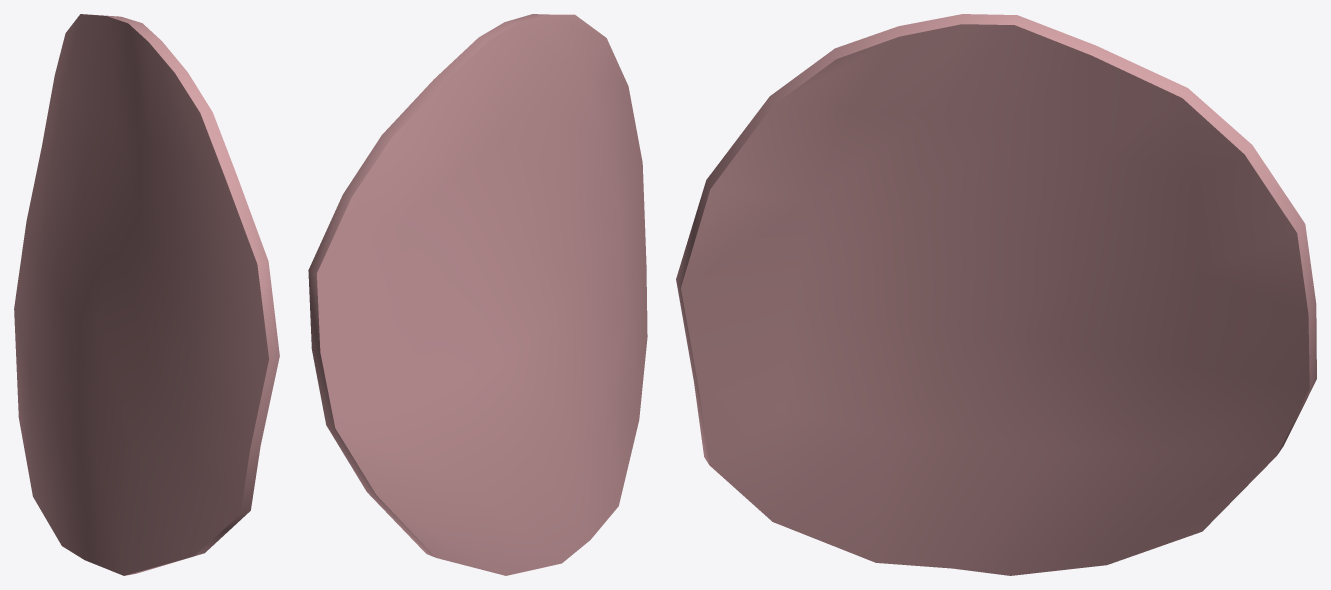
3 views of the same model, side by side, from view 1: azimuth 30°, elevation 25°; view 2: azimuth 150°, elevation 25°; view 3: azimuth 270°, elevation 25° (orthographic). The views are drawn at different scales.
Parts seen in each view (by area): view 1: ZA_fa07c45f514ac750; view 2: ZA_fa07c45f514ac750; view 3: ZA_fa07c45f514ac750.
Boxes of the visible parts, left/top/right/bottom form: ZA_fa07c45f514ac750: left=14, top=14, right=279, bottom=575; ZA_fa07c45f514ac750: left=308, top=14, right=647, bottom=575; ZA_fa07c45f514ac750: left=676, top=14, right=1316, bottom=575.
Bounding box in the file's own units: 0.0297 × 0.1083 × 0.1062.
